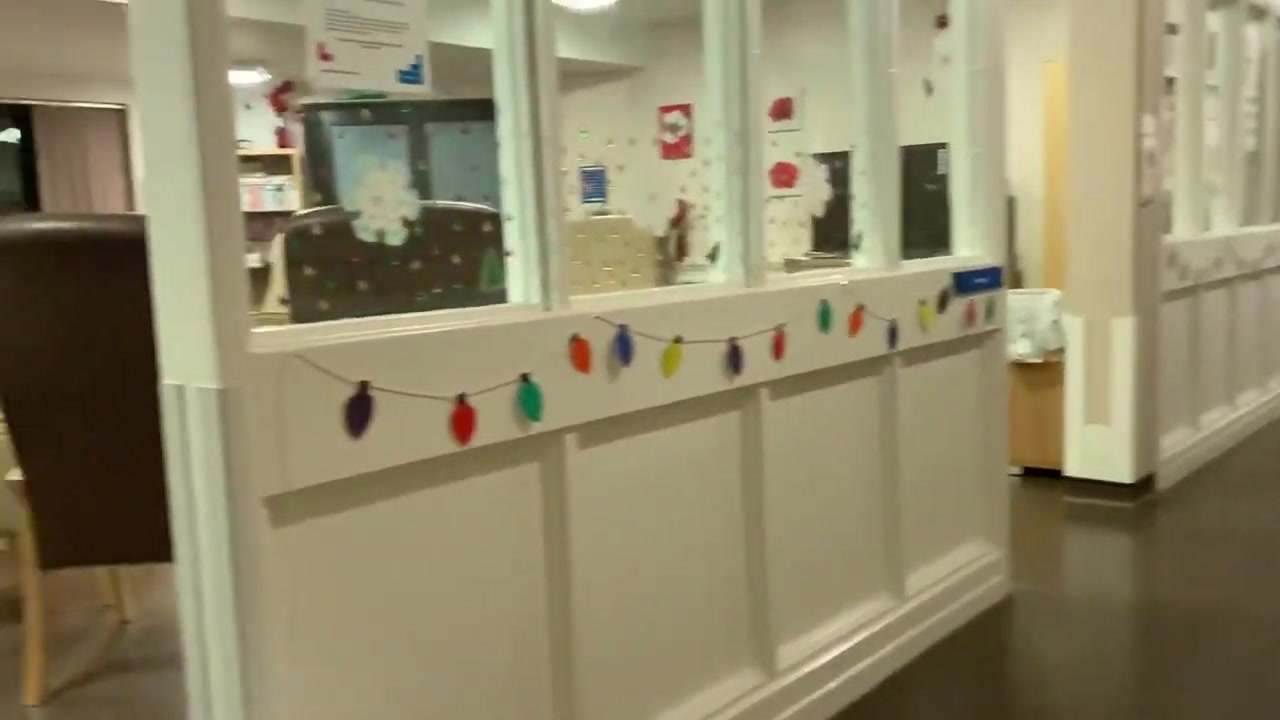chair: (1, 212, 178, 708)
